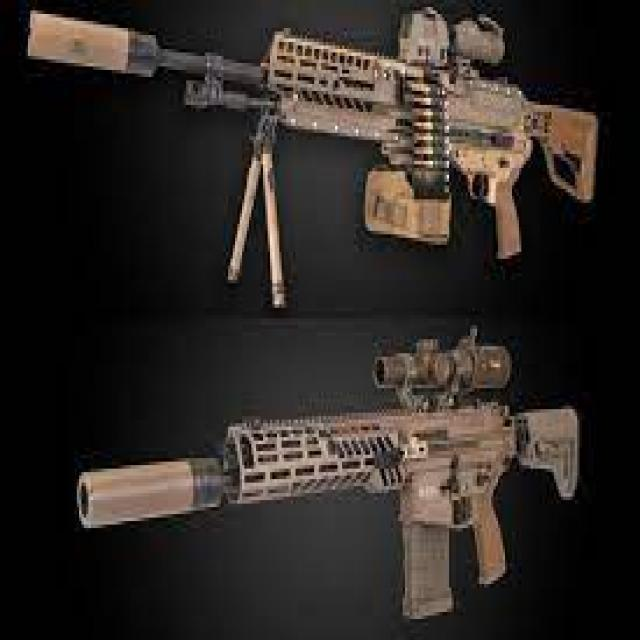weapon: (26, 8, 600, 308), (76, 326, 581, 623)
